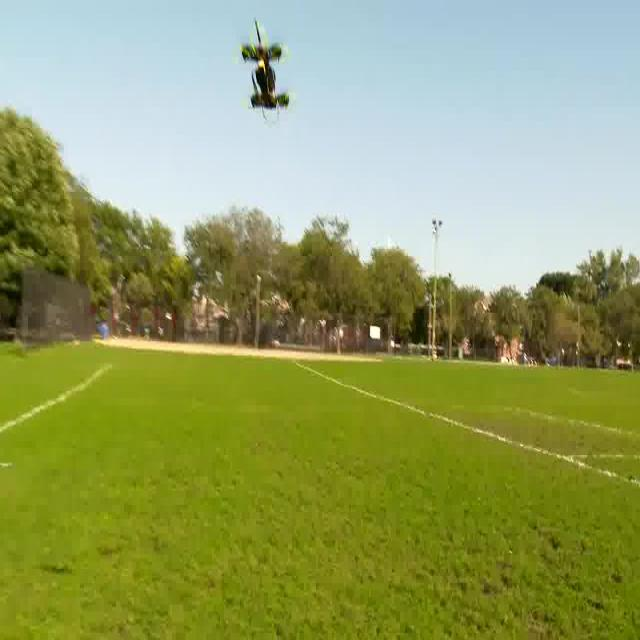drone: (235, 12, 298, 124)
